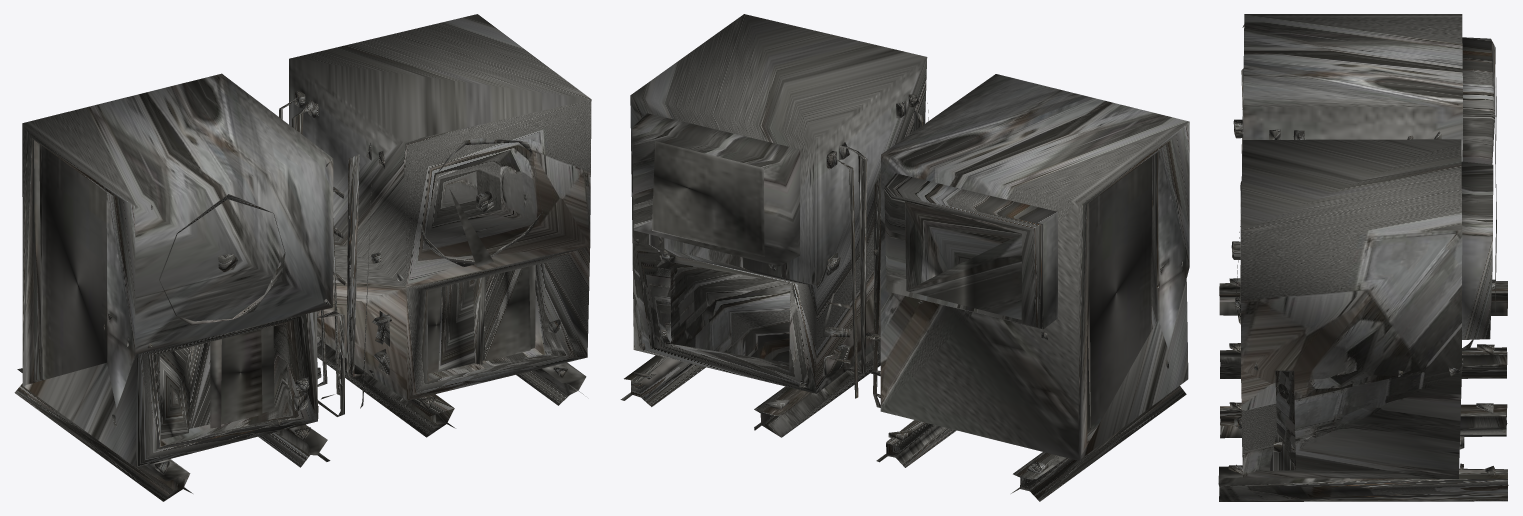
The model's file is rooftop_ac.glb.
3 renders of one model, left to right at view 1: azimuth 30°, elevation 25°; view 2: azimuth 150°, elevation 25°; view 3: azimuth 270°, elevation 25°, orthographic. The views are drawn at different scales.
Size of the model in its own units: 1 by 0.6122 by 0.5727.
Materials: 1 (1 with a texture image).
